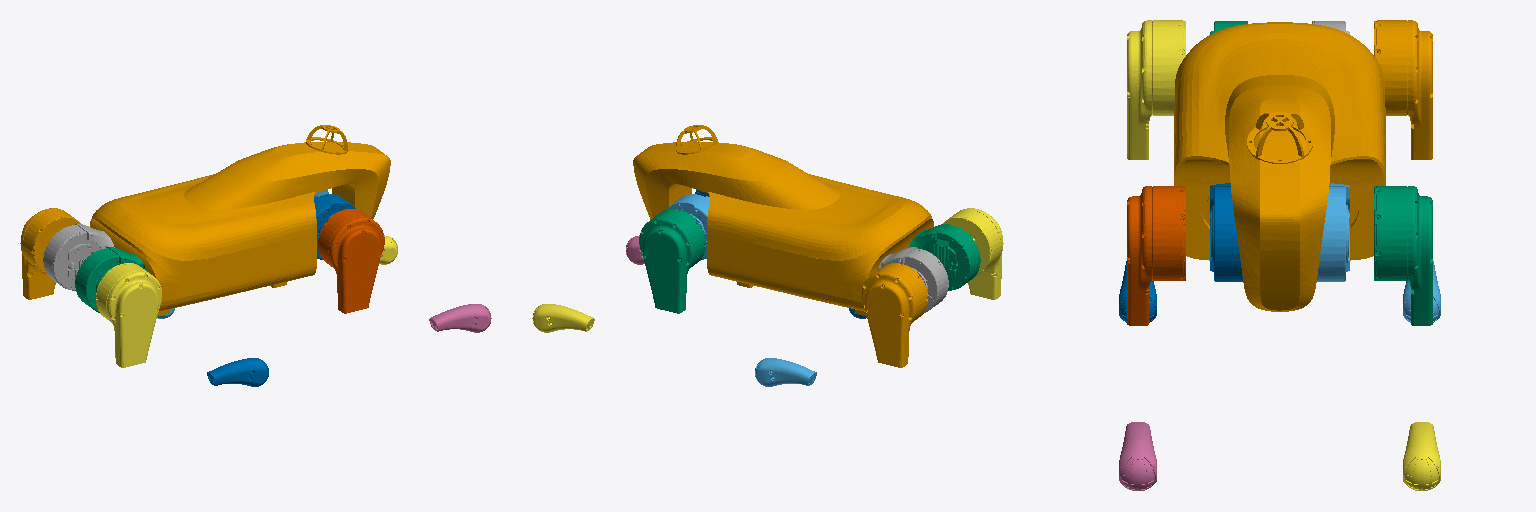
The robot description file, URDF, robot "wr3":
<?xml version="1.0" encoding="utf-8"?>
<!-- This URDF was automatically created by SolidWorks to URDF Exporter! Originally created by [author] ([email redacted]) 
     Commit Version: 1.6.0-4-g7f85cfe  Build Version: 1.6.7995.38578
     For more information, please see http://wiki.ros.org/sw_urdf_exporter -->

<robot name="wr3">

  <mujoco>
    <compiler meshdir="./meshes" balanceinertia="true" discardvisual="false"/>
  </mujoco>
  

 
  <link
    name="trunk_link">
    <inertial>
      <origin  xyz="0.023376 0.001413 0.010474" />
      <mass value="8.028" />
      <inertia  ixx="0.034"  ixy="-1.22E-04"  ixz="9.85E-3"  iyy="0.107105"  iyz="-1.16e-4"  izz="0.115227" />
    </inertial>
    <visual>
      <geometry>
        <mesh filename="./meshes/trunk_link.STL" />
      </geometry>
    </visual>
    <collision>
      <geometry>
        <mesh filename="./meshes/trunk_link.STL" />
      </geometry>
    </collision>
    <!-- Shell self filtering -->
    <self_filter>
        <origin rpy="0 0 0" xyz="0 0 0"/>
        <geometry>
            <box size="1.05 0.5 0.5"/>
        </geometry>
    </self_filter>
  </link>

  <link
    name="FL_hip_link">
    <inertial>
      <origin  xyz="0.057196 0.003387 -8.5E-05" />
      <mass value="0.838" />
      <inertia ixx="0.00059007"  ixy="2.6497E-05"  ixz="6.35E-07"  iyy="0.0010451"  iyz="1.276E-06"  izz="0.00073728" />
    </inertial>
    <visual>
      <geometry>
        <mesh filename="./meshes/FL_hip_link.STL" />
      </geometry>
    </visual>
    <!-- <collision>
      <geometry>
        <mesh filename="./meshes/FL_hip_link.STL" />
      </geometry>
    </collision> -->
  </link>

  <joint  name="FL_hip_joint"  type="revolute">
    <origin  xyz="0.135 0.05 0" />
    <parent  link="trunk_link" />
    <child  link="FL_hip_link" />
    <axis  xyz="1 0 0" />
    <limit  lower="-0.69813"  upper="0.69813"  effort="0" velocity="0" />
    <dynamics damping="0" friction="0" />
  </joint>

  <link  name="FL_thigh_link">
    <inertial>
      <origin  xyz="-0.001565 0.046615 -0.027916"/>
      <mass  value="1.059" />
      <inertia ixx="0.0045409"  ixy="-3.0711E-05"  ixz="0.00016028"  iyy="0.0047458"  iyz="-0.00053625"  izz="0.00080338" />
    </inertial>
    <visual>
      <geometry>
        <mesh
          filename="./meshes/FL_thigh_link.STL" />
      </geometry>
    </visual>
    <!-- <collision>
      <geometry>
        <mesh  filename="./meshes/FL_thigh_link.STL" />
      </geometry>
    </collision> -->
  </link>

  <joint  name="FL_thigh_joint" type="revolute">
    <origin  xyz="0.0625 0.02 0"/>
    <parent  link="FL_hip_link" />
    <child  link="FL_thigh_link" />
    <axis xyz="0 1 0" />
    <limit  lower="-0.66323"  upper="2.792528"  effort="0"  velocity="0" />
    <dynamics damping="0" friction="0" />
  </joint>

  <link  name="FL_calf_link">
    <inertial>
      <origin  xyz="0.008159 0.000159 -0.10787"/>
      <mass  value="0.125" />
      <inertia  ixx="0.00094343"  ixy="2.02E-07" ixz="-8.74E-06" iyy="0.00095562"  iyz="-1.61E-06" izz="2.8849E-05" />
    </inertial>
    <visual>
      <geometry>
        <mesh
          filename="./meshes/FL_calf_link.STL" />
      </geometry>
    </visual>
    <collision>
      <geometry>
        <mesh
          filename="./meshes/FL_calf_link.STL" />
      </geometry>
    </collision>
  </link>

  <joint  name="FL_calf_joint" type="revolute">
    <origin  xyz="0 0.0732 -0.213"/>
    <parent  link="FL_thigh_link" />
    <child link="FL_calf_link" />
    <axis  xyz="0 1 0" />
    <limit  lower="-2.7053"  upper="-0.89012"  effort="0"  velocity="0" />
    <dynamics damping="0" friction="0" />
  </joint>

  <link name="FR_hip_link">
    <inertial>
      <origin  xyz="0.056824 -0.003763 -1.9E-05"/>
      <mass  value="0.826" />
      <inertia ixx="0.00057386"  ixy="-2.6419E-05"  ixz="1.484E-06"  iyy="0.0010263" iyz="-3.312E-06" izz="0.00071938" />
    </inertial>
    <visual>
      <geometry>
        <mesh
          filename="./meshes/FR_hip_link.STL" />
      </geometry>
    </visual>
    <!-- <collision>
      <geometry>
        <mesh
          filename="./meshes/FR_hip_link.STL" />
      </geometry>
    </collision> -->
  </link>

  <joint  name="FR_hip_joint"  type="revolute">
    <origin  xyz="0.135 -0.05 0"/>
    <parent  link="trunk_link" />
    <child  link="FR_hip_link" />
    <axis  xyz="1 0 0" />
    <limit  lower="-0.69813"  upper="0.69813"  effort="0"  velocity="0" />
    <dynamics damping="0" friction="0" />
  </joint>

  <link name="FR_thigh_link">
    <inertial>
      <origin  xyz="-0.001574 -0.046573 -0.027836"/>
      <mass  value="1.057" />
      <inertia  ixx="0.0045363"  ixy="3.1815E-05"  ixz="0.00014708"  iyy="0.0047425"  iyz="0.00053467"  izz="0.00080311" />
    </inertial>
    <visual>
      <geometry>
        <mesh
          filename="./meshes/FR_thigh_link.STL" />
      </geometry>
    </visual>
    <!-- <collision>
      <geometry>
        <mesh
          filename="./meshes/FR_thigh_link.STL" />
      </geometry>
    </collision> -->
  </link>

  <joint name="FR_thigh_joint"  type="revolute">
    <origin  xyz="0.0625 -0.02 0" />
    <parent  link="FR_hip_link" />
    <child  link="FR_thigh_link" />
    <axis xyz="0 1 0" />
    <limit  lower="-0.66323"  upper="2.792528" effort="0" velocity="0" />
    <dynamics damping="0" friction="0" />
  </joint>

  <link  name="FR_calf_link">
    <inertial>
      <origin xyz="0.00816 -0.000208 -0.10787"/>
      <mass  value="0.125" />
      <inertia  ixx="0.00094347"  ixy="-1.81E-05"  ixz="-8.745E-05"
        iyy="0.00095566" iyz="8.34E-07" izz="2.8848E-05" />
    </inertial>
    <visual>
      <geometry>
        <mesh
          filename="./meshes/FR_calf_link.STL" />
      </geometry>
    </visual>
    <collision>
      <geometry>
        <mesh
          filename="./meshes/FR_calf_link.STL" />
      </geometry>
    </collision>
  </link>

  <joint  name="FR_calf_joint"  type="revolute">
    <origin  xyz="0 -0.0732 -0.213"/>
    <parent  link="FR_thigh_link" />
    <child link="FR_calf_link" />
    <axis  xyz="0 1 0" />
    <limit  lower="-2.7053"  upper="-0.89012"  effort="0" velocity="0" />
    <dynamics damping="0" friction="0" />
  </joint>

  <link  name="RL_hip_link">
    <inertial>
      <origin  xyz="-0.056595 0.004147 8.9E-05"/>
      <mass  value="0.81" />
      <inertia  ixx="0.00056372" ixy="-2.5231E-05"  ixz="1.942E-06"  iyy="0.0010172"  iyz="5.163E-06"  izz="0.00070424" />
    </inertial>
    <visual>
      <geometry>
        <mesh
          filename="./meshes/RL_hip_link.STL" />
      </geometry>
    </visual>
    <!-- <collision>
      <geometry>
        <mesh
          filename="./meshes/RL_hip_link.STL" />
      </geometry>
    </collision> -->
  </link>

  <joint  name="RL_hip_joint" type="revolute">
    <origin  xyz="-0.135 0.05 0"/>
    <parent link="trunk_link" />
    <child link="RL_hip_link" />
    <axis  xyz="1 0 0" />
    <limit  lower="-0.69813"  upper="0.69813" effort="0"  velocity="0" />
    <dynamics damping="0" friction="0" />
  </joint>

  <link  name="RL_thigh_link">
    <inertial>
      <origin  xyz="-0.001565 0.046615 -0.027916"/>
      <mass  value="1.059" />
      <inertia  ixx="0.0045409"  ixy="-3.0711E-05"  ixz="0.00016028" iyy="0.0047458"  iyz="-0.00053625"  izz="0.00080338" />
    </inertial>
    <visual>
      <geometry>
        <mesh  filename="./meshes/RL_thigh_link.STL" />
      </geometry>
    </visual>
    <!-- <collision>
      <geometry>
        <mesh  filename="./meshes/RL_thigh_link.STL" />
      </geometry>
    </collision> -->
  </link>

  <joint  name="RL_thigh_joint" type="revolute">
    <origin xyz="-0.0625 0.02 0"/>
    <parent link="RL_hip_link" />
    <child  link="RL_thigh_link" />
    <axis xyz="0 1 0" />
    <limit  lower="-0.66323" upper="4.502951" effort="0" velocity="0" />
    <dynamics damping="0" friction="0" />
  </joint>

  <link  name="RL_calf_link">
    <inertial>
      <origin  xyz="0.008159 0.000159 -0.10787"/>
      <mass  value="0.125" />
      <inertia  ixx="0.00094343"  ixy="2.02E-07"  ixz="-8.74E-06"  iyy="0.00095562"  iyz="-1.61E-06"  izz="2.8849E-05" />
    </inertial>
    <visual>
      <geometry>
        <mesh  filename="./meshes/RL_calf_link.STL" />
      </geometry>
    </visual>
    <collision>
      <geometry>
        <mesh  filename="./meshes/RL_calf_link.STL" />
      </geometry>
    </collision>
  </link>

  <joint name="RL_calf_joint" type="revolute">
    <origin  xyz="0 0.0732 -0.213"/>
    <parent  link="RL_thigh_link" />
    <child link="RL_calf_link" />
    <axis  xyz="0 1 0" />
    <limit  lower="-2.7053"  upper="-0.89012"  effort="0"  velocity="0" />
    <dynamics damping="0" friction="0" />
  </joint>

  <link  name="RR_hip_link">
    <inertial>
      <origin  xyz="-0.056604 -0.004164 0.000119"/>
      <mass  value="0.81" />
      <inertia ixx="0.00056443"  ixy="2.5833E-05"  ixz="1.693E-06"  iyy="0.0010173"  iyz="-6.088E-06"  izz="0.00070474" />
    </inertial>
    <visual>
      <geometry>
        <mesh filename="./meshes/RR_hip_link.STL" />
      </geometry>
    </visual>
    <!-- <collision>
      <geometry>
        <mesh filename="./meshes/RR_hip_link.STL" />
      </geometry>
    </collision> -->
  </link>

  <joint  name="RR_hip_joint"  type="revolute">
    <origin  xyz="-0.135 -0.05 0"/>
    <parent  link="trunk_link" />
    <child  link="RR_hip_link" />
    <axis  xyz="1 0 0" />
    <limit  lower="-0.698132" upper="0.698132"  effort="0"  velocity="0" />
    <dynamics damping="0" friction="0" />
  </joint>

  <link  name="RR_thigh_link">
    <inertial>
      <origin  xyz="-0.001574 -0.046573 -0.027836" />
      <mass   value="1.057" />
      <inertia ixx="0.0045363"  ixy="3.1815E-05"  ixz="0.00014708"  iyy="0.0047425"  iyz="0.00053467"  izz="0.00080311" />
    </inertial>
    <visual>
      <geometry>
        <mesh filename="./meshes/RR_thigh_link.STL" />
      </geometry>
    </visual>
    <!-- <collision>
      <geometry>
        <mesh  filename="./meshes/RR_thigh_link.STL" />
      </geometry>
    </collision> -->
  </link>

  <joint  name="RR_thigh_joint"  type="revolute">
    <origin  xyz="-0.0625 -0.02 0"/>
    <parent  link="RR_hip_link" />
    <child  link="RR_thigh_link" />
    <axis  xyz="0 1 0" />
    <limit  lower="-0.663225"  upper="4.502951"  effort="0"  velocity="0" />
    <dynamics damping="0" friction="0" />
  </joint>

  <link  name="RR_calf_link">
    <inertial>
      <origin xyz="0.00816 -0.000208 -0.10787"/>
      <mass value="0.125" />
      <inertia  ixx="0.00094347"  ixy="-1.81E-05"  ixz="-8.745E-05"  iyy="0.00095566" iyz="8.34E-07"  izz="2.8848E-05" />
    </inertial>
    <visual>
      <geometry>
        <mesh filename="./meshes/RR_calf_link.STL" />
      </geometry>
    </visual>
    <collision>
      <geometry>
        <mesh  filename="./meshes/RR_calf_link.STL" />
      </geometry>
    </collision>
  </link>

  <joint name="RR_calf_joint" type="revolute">
    <origin xyz="0 -0.0732 -0.213"/>
    <parent  link="RR_thigh_link" />
    <child  link="RR_calf_link" />
    <axis  xyz="0 1 0" />
    <limit  lower="-2.7053"  upper="-0.89012"  effort="0"  velocity="0" />
    <dynamics damping="0" friction="0" />
  </joint>
  
</robot>

--- What the picture shows (computed from the rendered views, not written in the file) ---
3 views of the same robot in one strip: view 1: azimuth 30°, elevation 25°; view 2: azimuth 150°, elevation 25°; view 3: azimuth 270°, elevation 25° (orthographic).
Robot: wr3 — 13 links, 12 joints (12 revolute); root link trunk_link; default pose: all joints at 0 but 4 set to mid-range because 0 is outside their limits (FL_calf_joint = -1.8, FR_calf_joint = -1.8, RL_calf_joint = -1.8, RR_calf_joint = -1.8).
Visible links, largest first — view 1: trunk_link, RR_thigh_link, FR_thigh_link, RL_thigh_link, RL_hip_link, RR_hip_link, RR_calf_link, FR_calf_link, FR_hip_link; view 2: trunk_link, FL_thigh_link, RL_thigh_link, RR_thigh_link, RR_hip_link, RL_hip_link, RL_calf_link, FL_calf_link, FL_hip_link; view 3: trunk_link, FL_thigh_link, FR_thigh_link, RL_thigh_link, RR_thigh_link, FL_hip_link, FR_hip_link, FL_calf_link, FR_calf_link, RL_calf_link, RR_calf_link.
Boxes of the visible links, bbox=[...] form: trunk_link: bbox=[90, 125, 390, 316]; RR_thigh_link: bbox=[96, 263, 161, 367]; FR_thigh_link: bbox=[318, 209, 384, 313]; RL_thigh_link: bbox=[20, 208, 80, 299]; RL_hip_link: bbox=[43, 224, 114, 290]; RR_hip_link: bbox=[75, 247, 146, 312]; RR_calf_link: bbox=[207, 358, 268, 386]; FR_calf_link: bbox=[429, 304, 491, 332]; FR_hip_link: bbox=[314, 194, 355, 259]; trunk_link: bbox=[633, 125, 933, 316]; FL_thigh_link: bbox=[639, 209, 705, 313]; RL_thigh_link: bbox=[862, 263, 927, 367]; RR_thigh_link: bbox=[943, 208, 1003, 299]; RR_hip_link: bbox=[909, 224, 980, 290]; RL_hip_link: bbox=[877, 247, 948, 312]; RL_calf_link: bbox=[755, 358, 816, 386]; FL_calf_link: bbox=[532, 304, 594, 332]; FL_hip_link: bbox=[668, 194, 709, 260]; trunk_link: bbox=[1174, 22, 1385, 311]; FL_thigh_link: bbox=[1374, 186, 1432, 325]; FR_thigh_link: bbox=[1127, 186, 1185, 325]; RL_thigh_link: bbox=[1374, 20, 1432, 159]; RR_thigh_link: bbox=[1127, 20, 1185, 159]; FL_hip_link: bbox=[1317, 183, 1349, 281]; FR_hip_link: bbox=[1210, 183, 1242, 281]; FL_calf_link: bbox=[1403, 422, 1440, 490]; FR_calf_link: bbox=[1119, 422, 1156, 490]; RL_calf_link: bbox=[1403, 261, 1440, 322]; RR_calf_link: bbox=[1119, 261, 1156, 322].
Size in the robot's own frame: 0.6726 by 0.3244 by 0.3321 metres.
13 mesh visuals loaded from 13 distinct referenced files (13 binary STL).